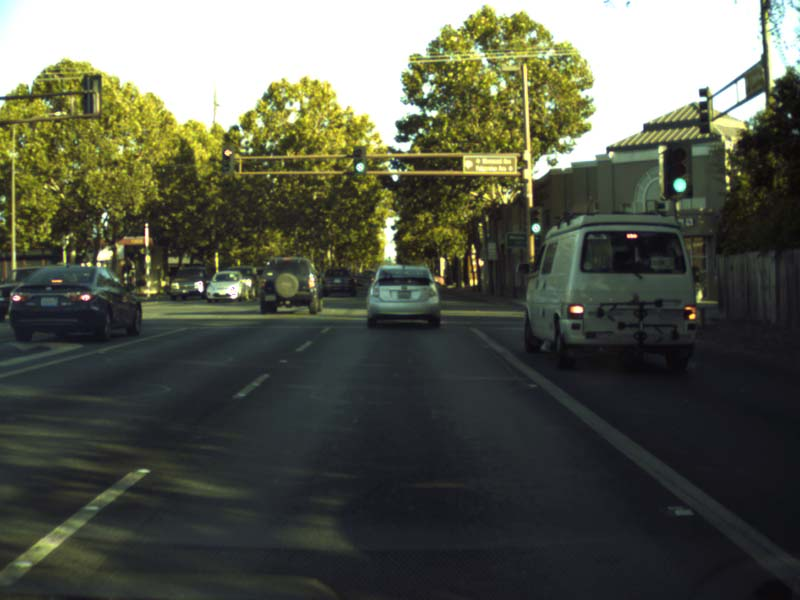Green: (667, 145, 689, 191), (528, 209, 541, 234), (352, 145, 364, 172)
Red: (223, 146, 232, 171)
